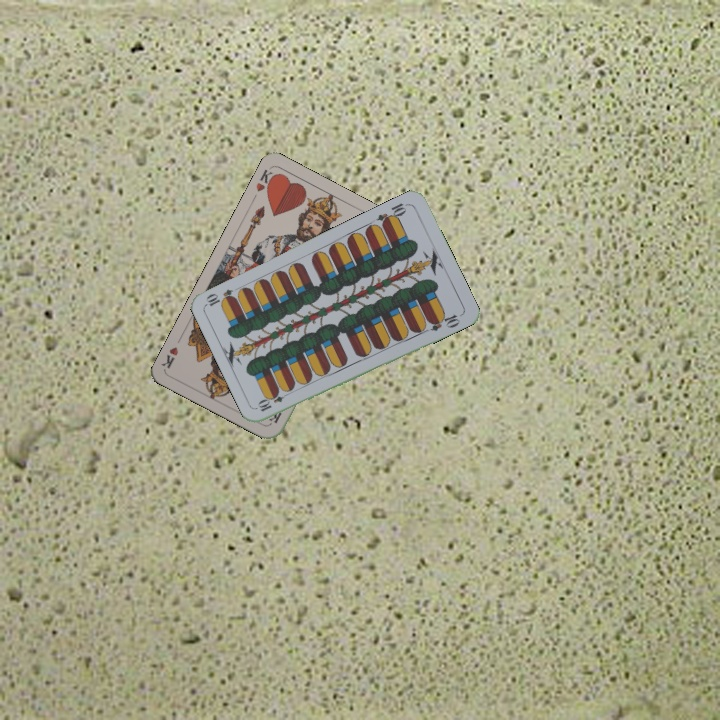E10: (373, 199, 411, 229), (254, 387, 293, 414)
HK: (252, 165, 279, 195)
